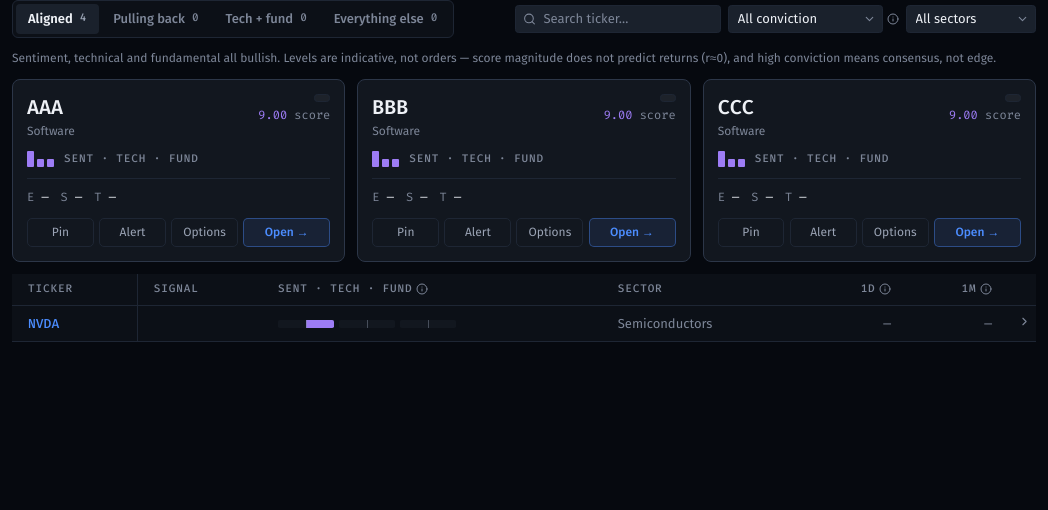
it: SignalGroups — row-encoding diet (TD-03/04/05/06) › moves conviction, catalyst count and flags into the expanded row, and renders 1W/6M/1Y Ret chips
Check: the link "NVDA" is shown, box [28,315,59,332]
Click the button named "Show details". click: [1024, 322]
box: [1016,314,1032,330]
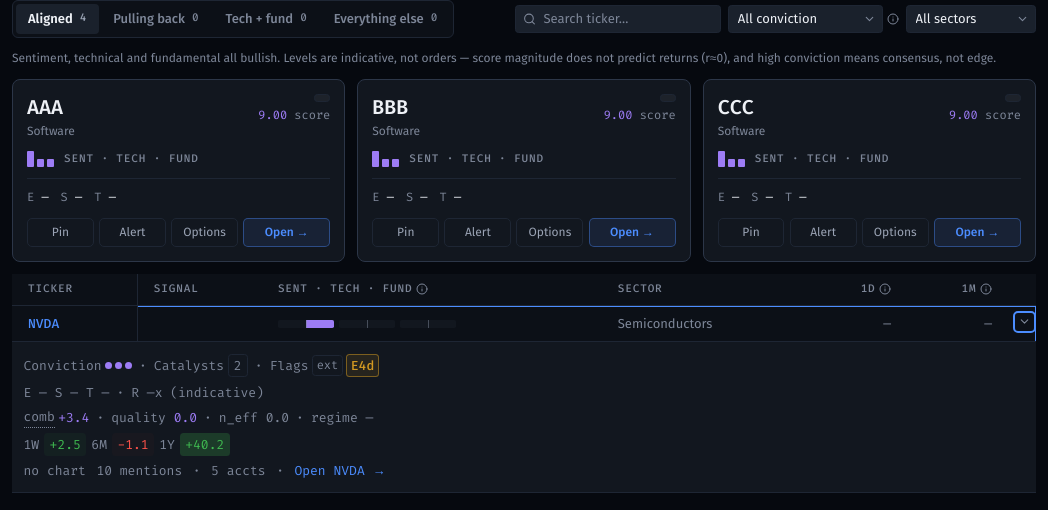
Check: the text "Conviction" is shown, box [24,356,132,375]
Check: the text "Catalysts" is shown, box [154,357,224,374]
Check: the text "Flags" is shown, box [270,357,309,374]
